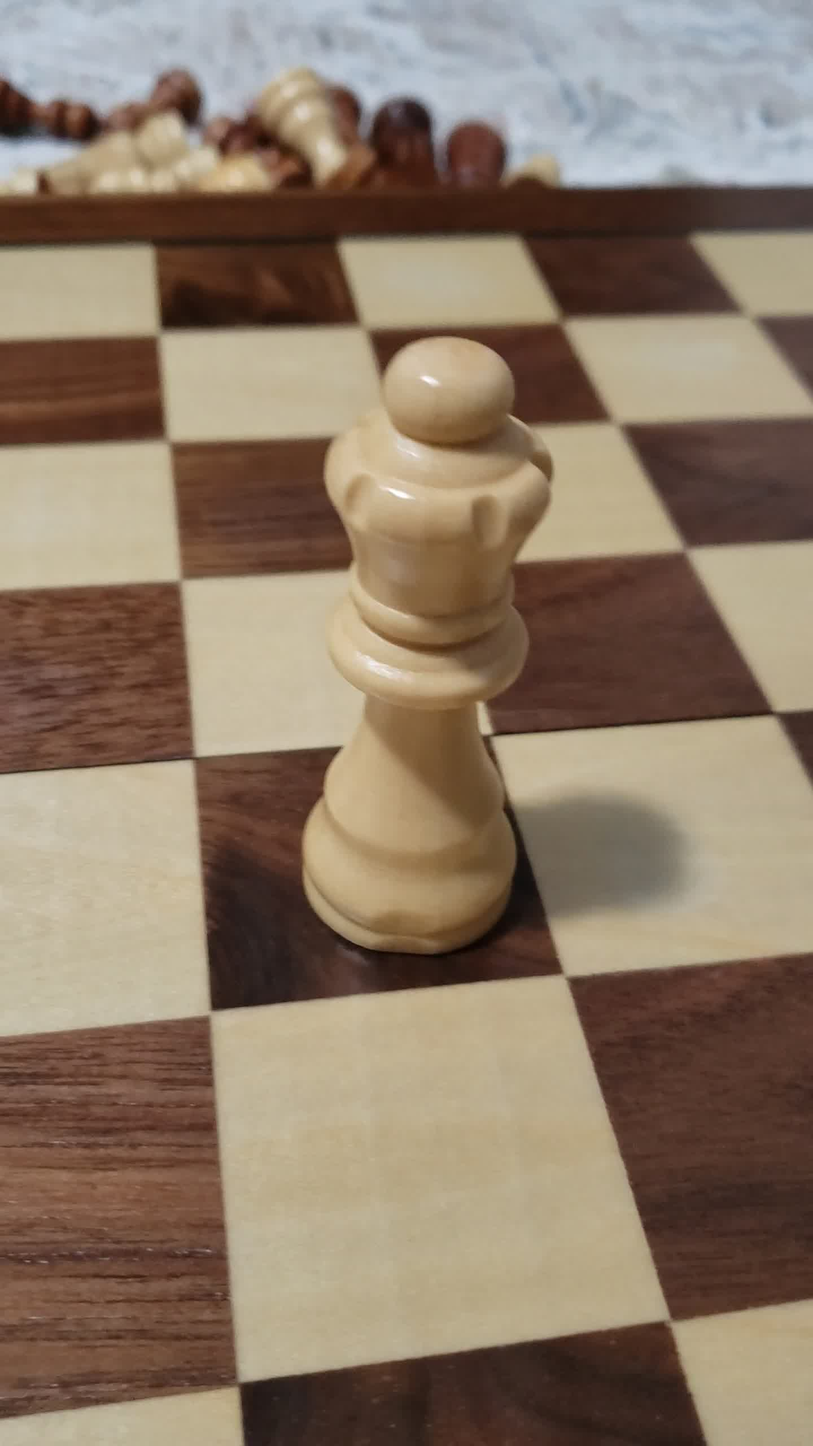white-queen: (279, 300, 591, 1017)
